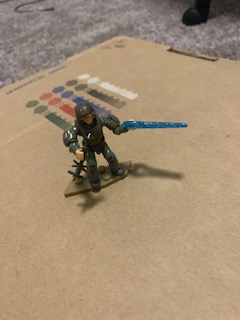soldier: (57, 98, 190, 196)
